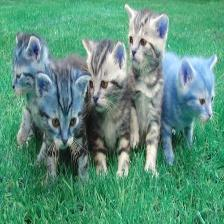kedo: (125, 5, 168, 171), (82, 37, 130, 178), (36, 70, 91, 177), (164, 54, 217, 164), (11, 31, 52, 144)
